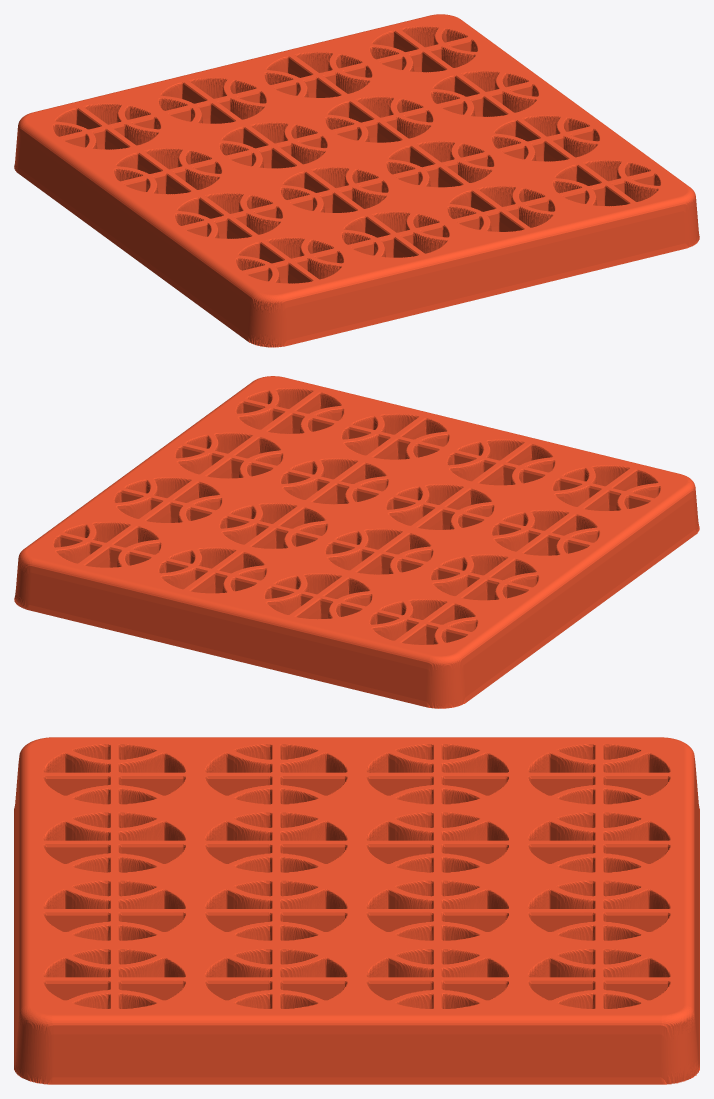
Rendered from mold.glb.
3 renders of one model, top to bottom at view 1: azimuth 30°, elevation 25°; view 2: azimuth 150°, elevation 25°; view 3: azimuth 270°, elevation 25°, orthographic. The views are drawn at different scales.
Visible parts, largest first — view 1: geometry_0; view 2: geometry_0; view 3: geometry_0.
Boxes of the visible parts, left/top/right/bottom form: geometry_0: left=14, top=14, right=699, bottom=347; geometry_0: left=14, top=376, right=699, bottom=708; geometry_0: left=14, top=737, right=699, bottom=1084.
Size of the model in its own units: 0.1569 by 0.0159 by 0.1569.
